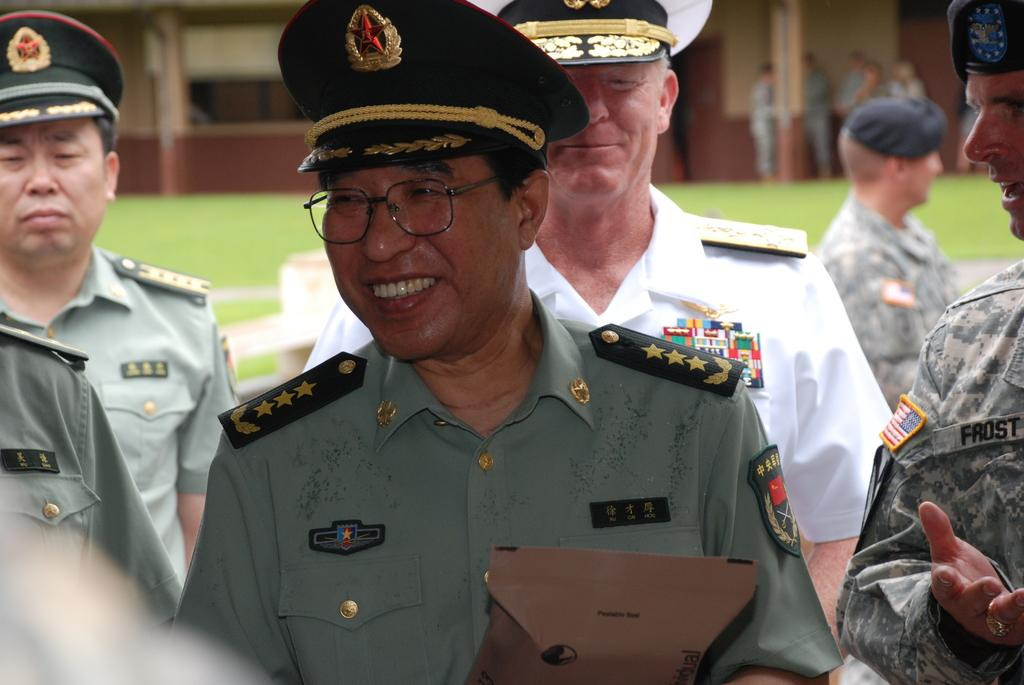Hat: (272, 0, 587, 169), (476, 0, 714, 67), (0, 4, 128, 126)
